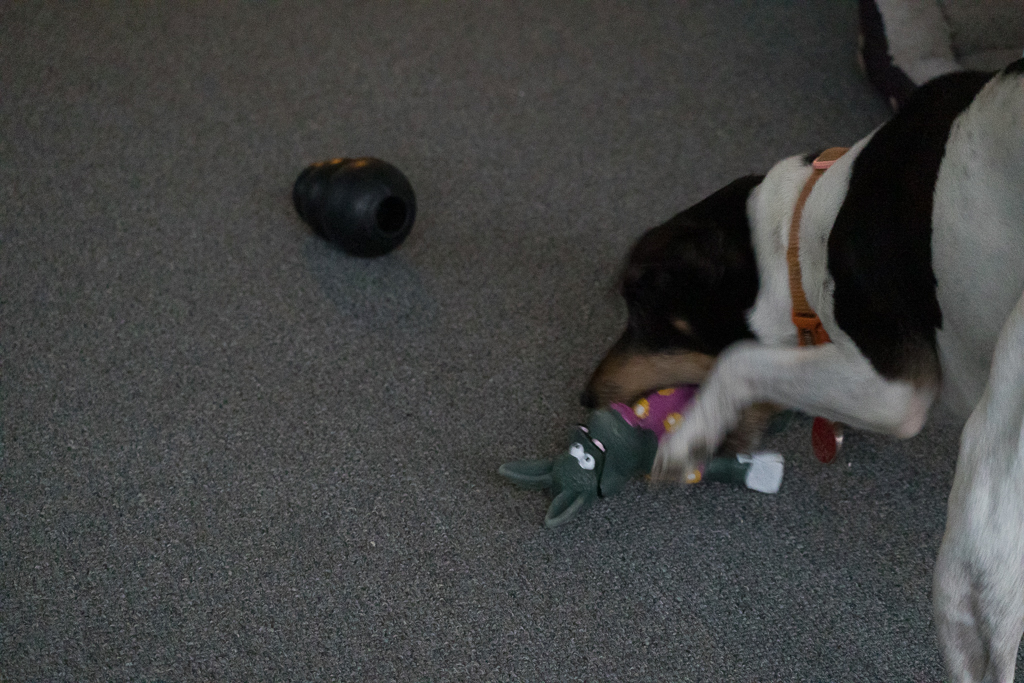Dog: (563, 48, 1024, 683)
Humanoid: (487, 377, 828, 548)
